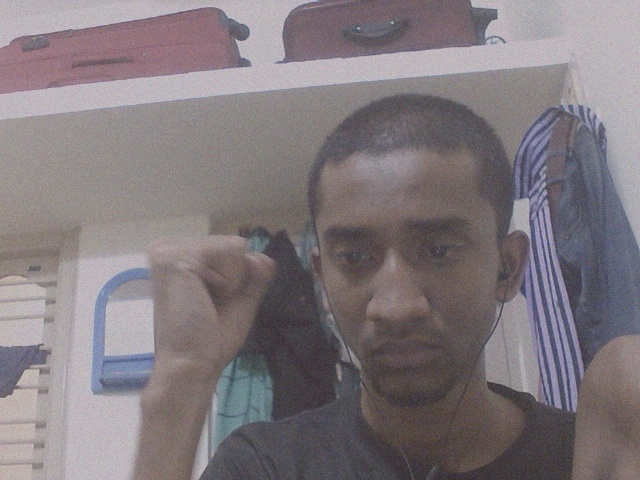hand: (145, 231, 279, 373)
